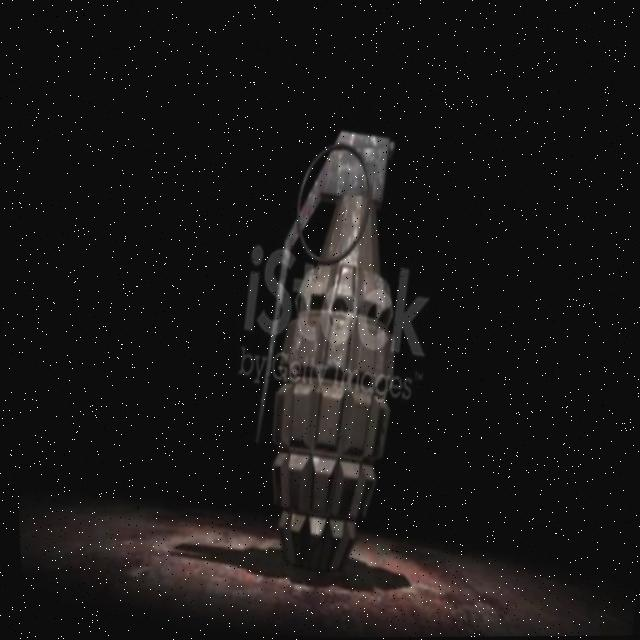grenade: (221, 101, 442, 595)
